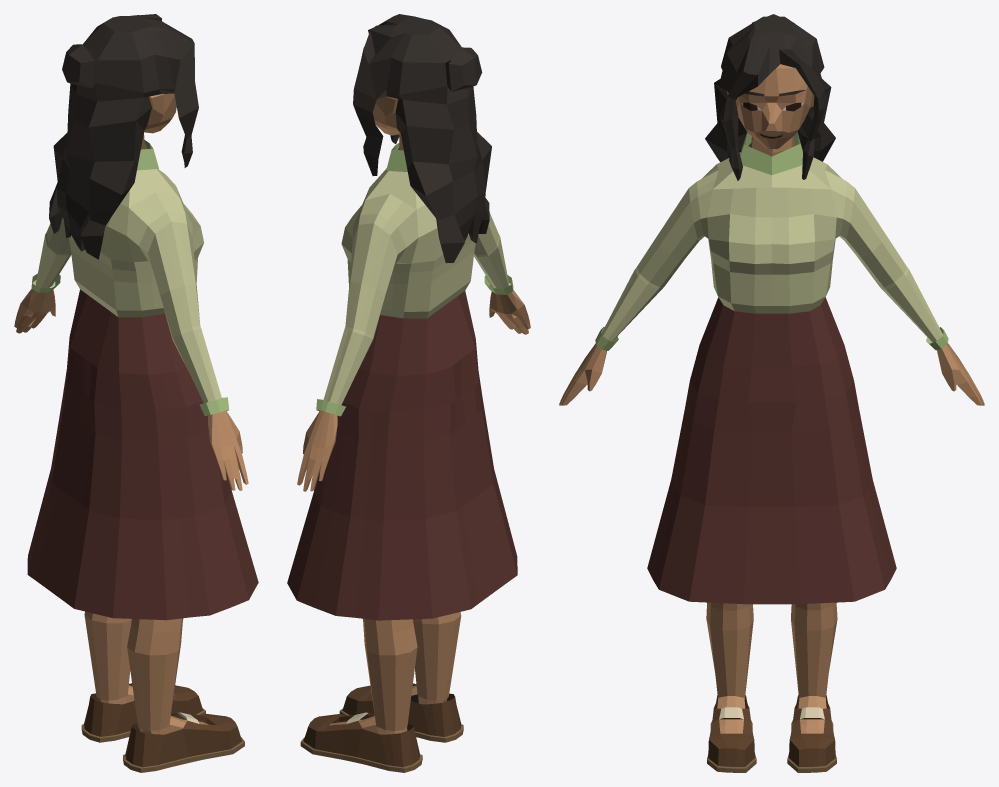
Rendered from human_Variant3_facesFixed.fbx.
3 views of the same model, side by side, from view 1: azimuth 30°, elevation 25°; view 2: azimuth 150°, elevation 25°; view 3: azimuth 270°, elevation 25° (orthographic). The views are drawn at different scales.
Parts seen in each view (by area): view 1: body; view 2: body; view 3: body.
Boxes of the visible parts, x1,y1,x2,y2 form: body: [14, 14, 258, 772]; body: [287, 14, 530, 772]; body: [559, 14, 984, 772].
Size of the model in its own units: 983 by 3979 by 2180.
